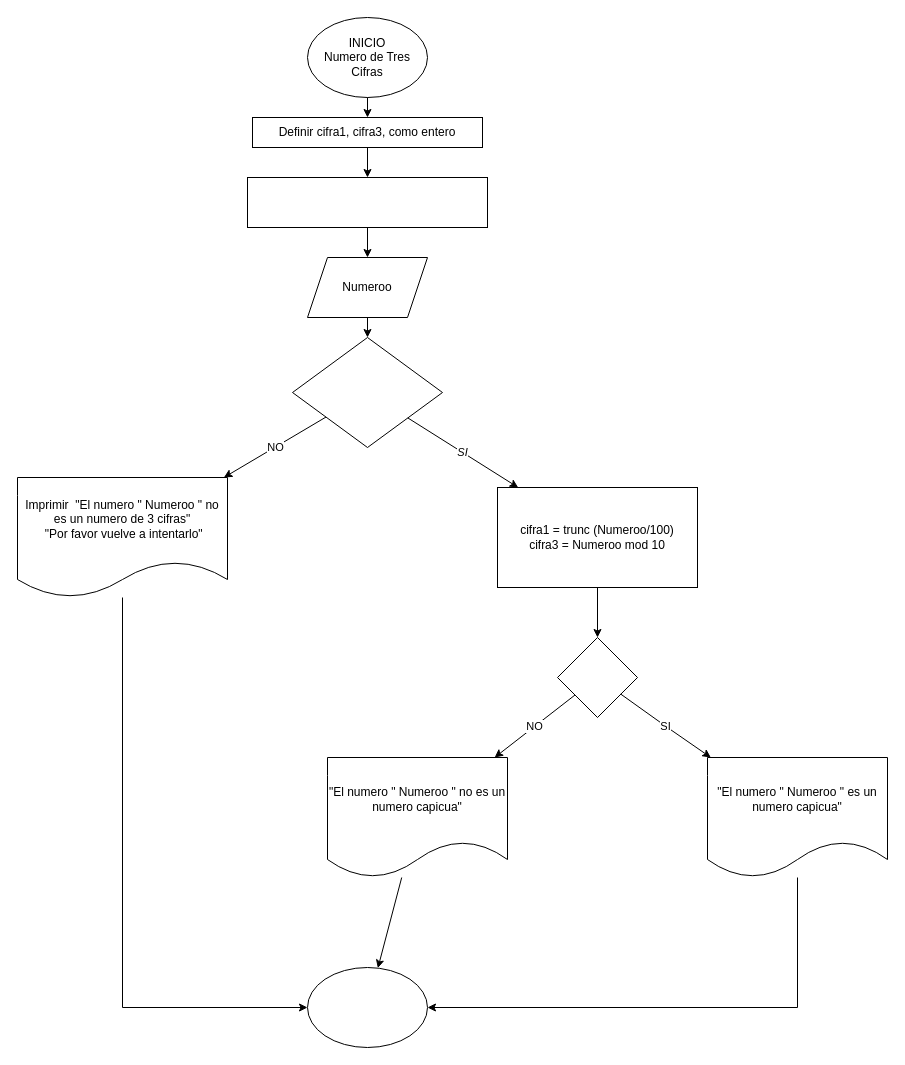
Some shapes in this 905 by 1065 pixel diagram are drawn without their labels. Here are the shapes that lost their labels. From the top down, the centre of each, then its label:
[367,202]: Escribir "Por favor ingresa un numero de 3 cifras"
[367,392]: Numeroo <1000 y Numeroo>99
[597,677]: cifra1 = cifra3
[367,1007]: FIn
